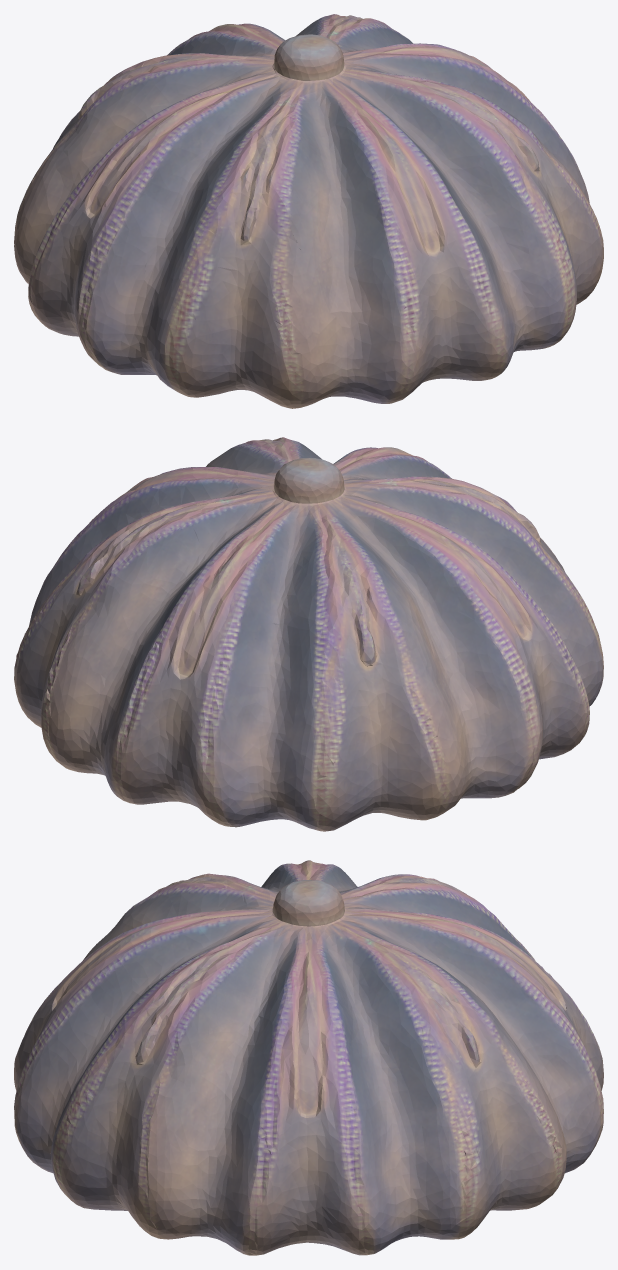
3 views of the same model, one above another, from view 1: azimuth 30°, elevation 25°; view 2: azimuth 150°, elevation 25°; view 3: azimuth 270°, elevation 25° (orthographic).
Visible parts, largest first — view 1: world; view 2: world; view 3: world.
Part boxes in pixels (x1,y1,x2,y2): world: [14, 14, 603, 408]; world: [14, 437, 603, 831]; world: [14, 860, 603, 1255].
Size of the model in its own units: 1 by 0.5259 by 1.
Materials: 1 (1 with a texture image).
